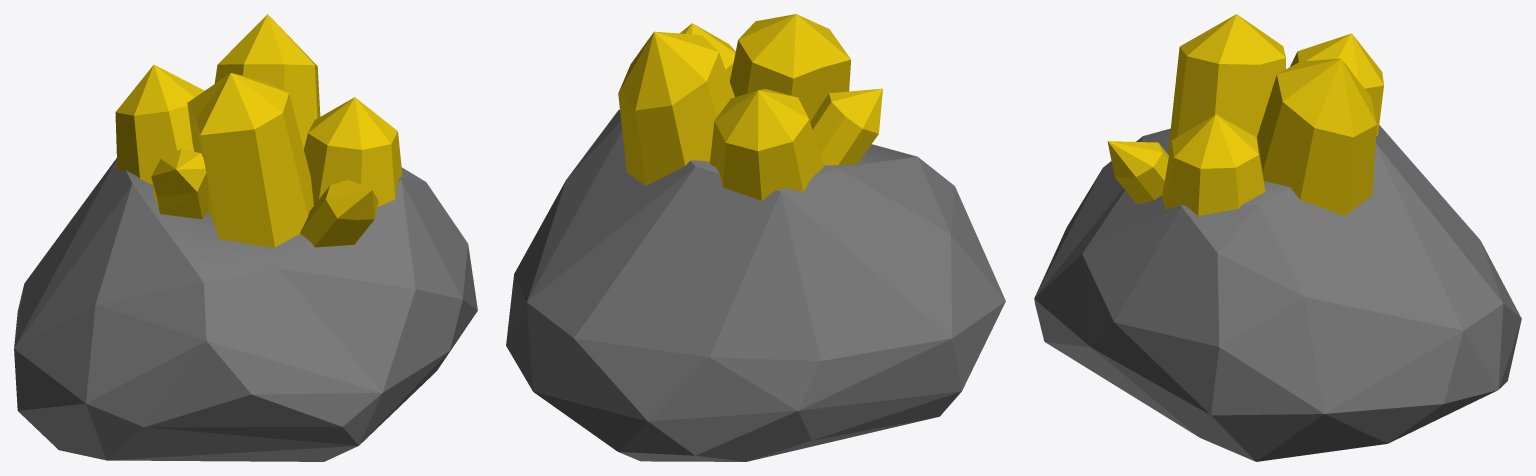
Rendered from ore.fbx.
The picture shows the model from 3 angles, left to right: view 1: azimuth 30°, elevation 25°; view 2: azimuth 150°, elevation 25°; view 3: azimuth 270°, elevation 25°; orthographic projection.
Parts seen in each view (by area): view 1: ore_stone, Ore; view 2: ore_stone, Ore; view 3: ore_stone, Ore.
Part boxes in pixels (box(x1,y1,x2,y2)): ore_stone: box(14, 158, 477, 461); Ore: box(115, 14, 402, 247); ore_stone: box(506, 109, 1005, 461); Ore: box(618, 14, 882, 200); ore_stone: box(1034, 125, 1521, 461); Ore: box(1107, 14, 1383, 215).
Size of the model in its own units: 63.9 by 55.29 by 63.3.
